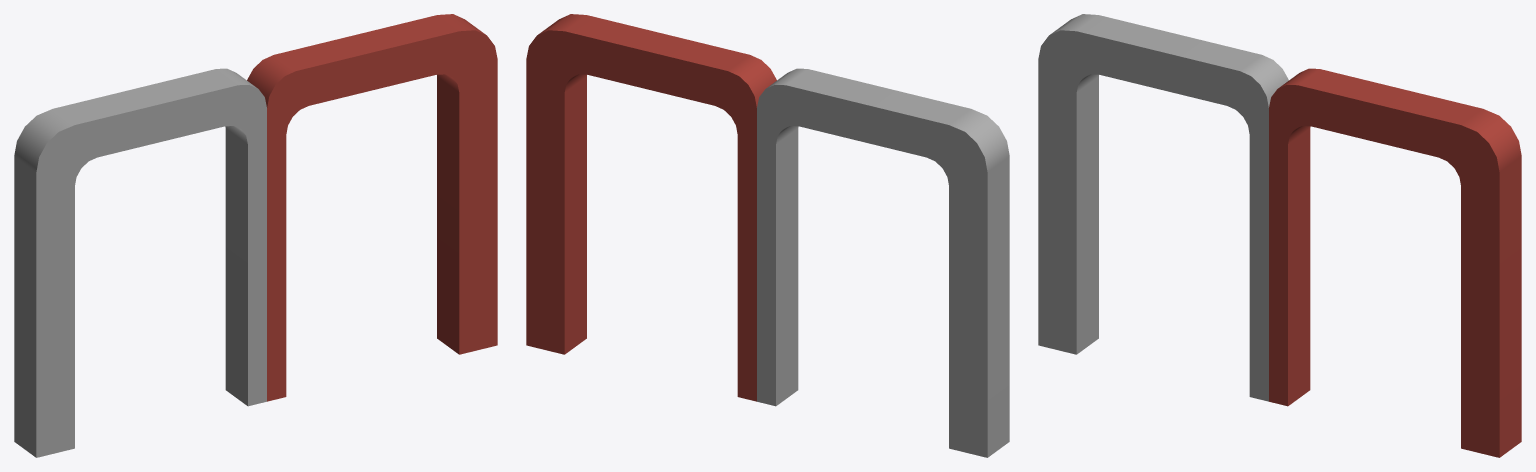
The model's file is door.fbx.
3 renders of one model, left to right at view 1: azimuth 30°, elevation 25°; view 2: azimuth 150°, elevation 25°; view 3: azimuth 330°, elevation 25°, orthographic.
Parts seen in each view (by area): view 1: polySurface15; view 2: polySurface15; view 3: polySurface15.
Part boxes in pixels (x1=…): polySurface15: x1=14, y1=14, x2=497, y2=457; polySurface15: x1=526, y1=14, x2=1009, y2=457; polySurface15: x1=1038, y1=14, x2=1521, y2=457.
Bounding box in the file's own units: 1200 × 804 × 100.
